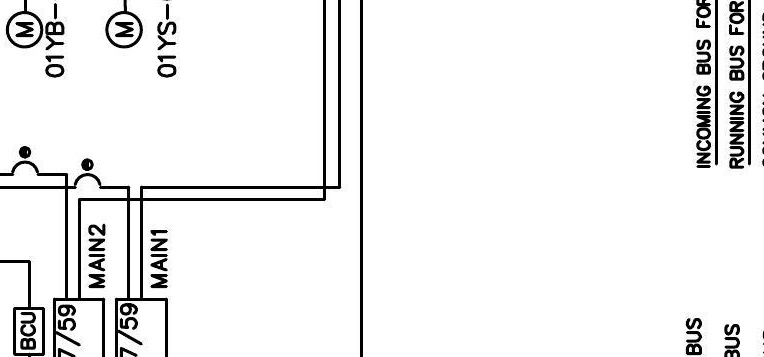BCU: (12, 306, 46, 357)
